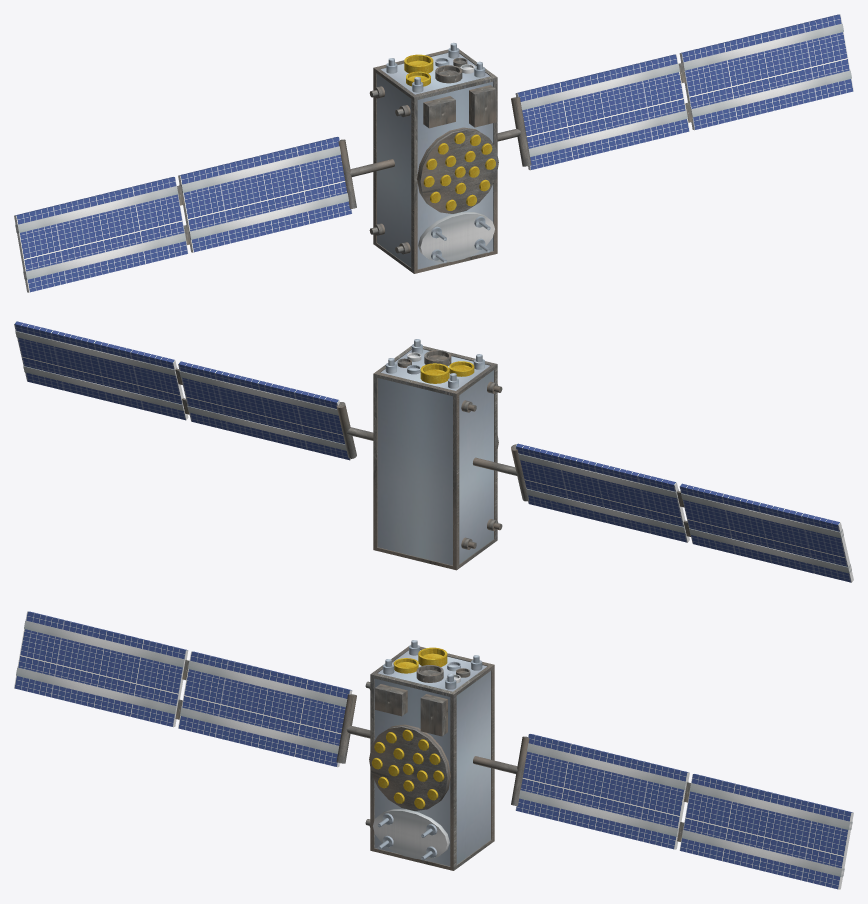
The model's file is GALILEO.gltf.
The picture shows the model from 3 angles, top to bottom: view 1: azimuth 30°, elevation 25°; view 2: azimuth 150°, elevation 25°; view 3: azimuth 330°, elevation 25°; orthographic projection.
Parts seen in each view (by area): view 1: Box001, Box005, Box018, Box004, Box014, Cylinder001, Cylinder002, Box010, Box011, Box017, Box019, Box008 (+7 smaller); view 2: Box001, Box005, Box018, Box004, Box014, Box010, Box011, Box017, Box019, Box008, Box009, Box016 (+3 smaller); view 3: Box001, Box018, Box005, Box014, Box004, Cylinder001, Cylinder002, Box017, Box019, Box010, Box011, Box016 (+7 smaller).
Boxes of the visible parts, x1,y1,x2,y2 form: Box001: [373, 49, 497, 273]; Box005: [14, 176, 188, 292]; Box018: [679, 14, 853, 130]; Box004: [178, 136, 352, 252]; Box014: [515, 54, 689, 170]; Cylinder001: [417, 127, 498, 213]; Cylinder002: [418, 212, 494, 262]; Box010: [23, 233, 186, 279]; Box011: [15, 186, 178, 232]; Box017: [691, 70, 851, 117]; Box019: [683, 23, 843, 70]; Box008: [179, 146, 340, 192]; Box001: [373, 346, 497, 570]; Box005: [679, 483, 853, 582]; Box018: [14, 321, 188, 420]; Box004: [515, 443, 689, 542]; Box014: [178, 361, 350, 460]; Box010: [689, 528, 851, 573]; Box011: [681, 493, 843, 538]; Box017: [23, 366, 183, 410]; Box019: [15, 331, 177, 375]; Box008: [518, 453, 678, 498]; Box009: [526, 488, 685, 533]; Box016: [179, 371, 338, 415]; Box001: [370, 646, 494, 870]; Box018: [679, 773, 853, 889]; Box005: [14, 611, 188, 727]; Box014: [515, 733, 689, 849]; Box004: [178, 651, 352, 767]; Cylinder001: [369, 724, 450, 810]; Cylinder002: [373, 809, 449, 859]; Box017: [681, 830, 844, 876]; Box019: [689, 783, 852, 829]; Box010: [16, 667, 176, 714]; Box011: [24, 620, 184, 667]; Box016: [527, 743, 688, 789].
Bounding box in the file's own units: 48.99 × 10.66 × 5.35.
Materials: 5 (5 with a texture image).
